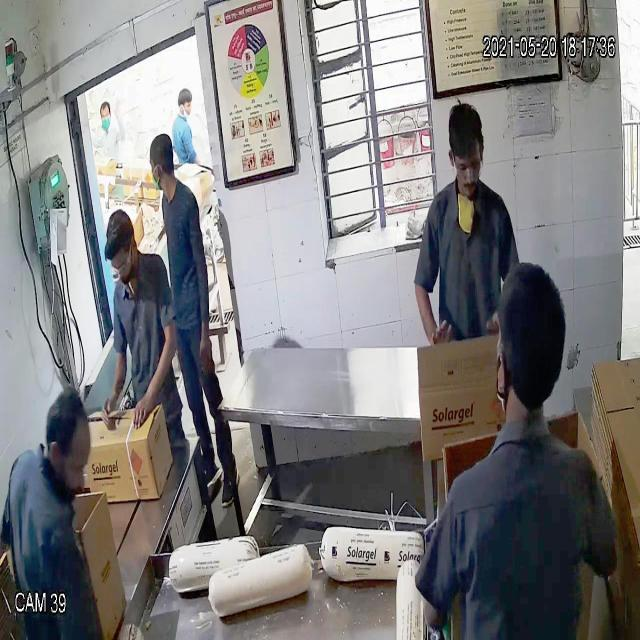glasses: (446, 148, 492, 178), (102, 252, 136, 279)
